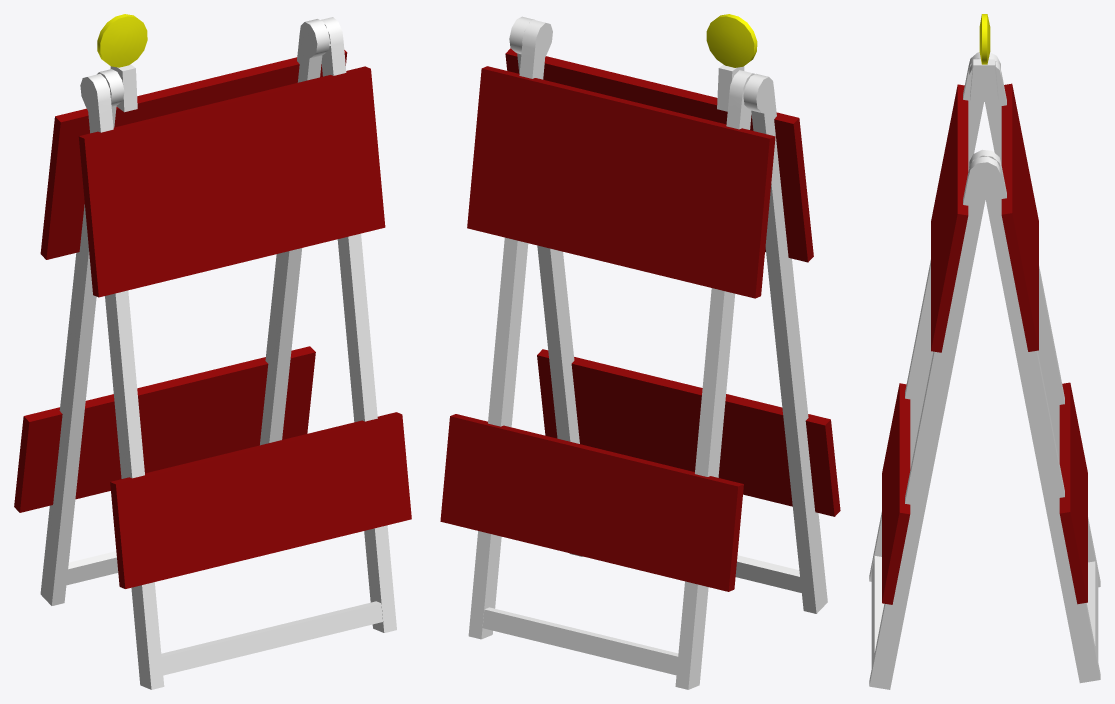
Rendered from Barricade.fbx.
3 views of the same model, side by side, from view 1: azimuth 30°, elevation 25°; view 2: azimuth 150°, elevation 25°; view 3: azimuth 270°, elevation 25° (orthographic). The views are drawn at different scales.
Parts seen in each view (by area): view 1: RoadBarricade; view 2: RoadBarricade; view 3: RoadBarricade.
Part boxes in pixels (x1,y1,x2,y2): RoadBarricade: [14, 14, 411, 689]; RoadBarricade: [440, 14, 840, 689]; RoadBarricade: [869, 14, 1100, 689].
Bounding box in the file's own units: 566 × 1178 × 427.
